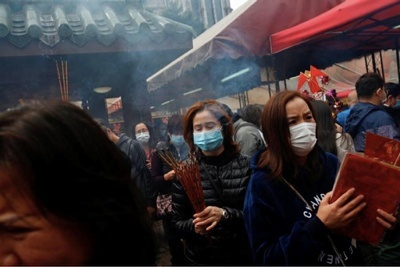good: (287, 110, 319, 157), (192, 120, 224, 155), (134, 126, 151, 146), (171, 132, 187, 148)
